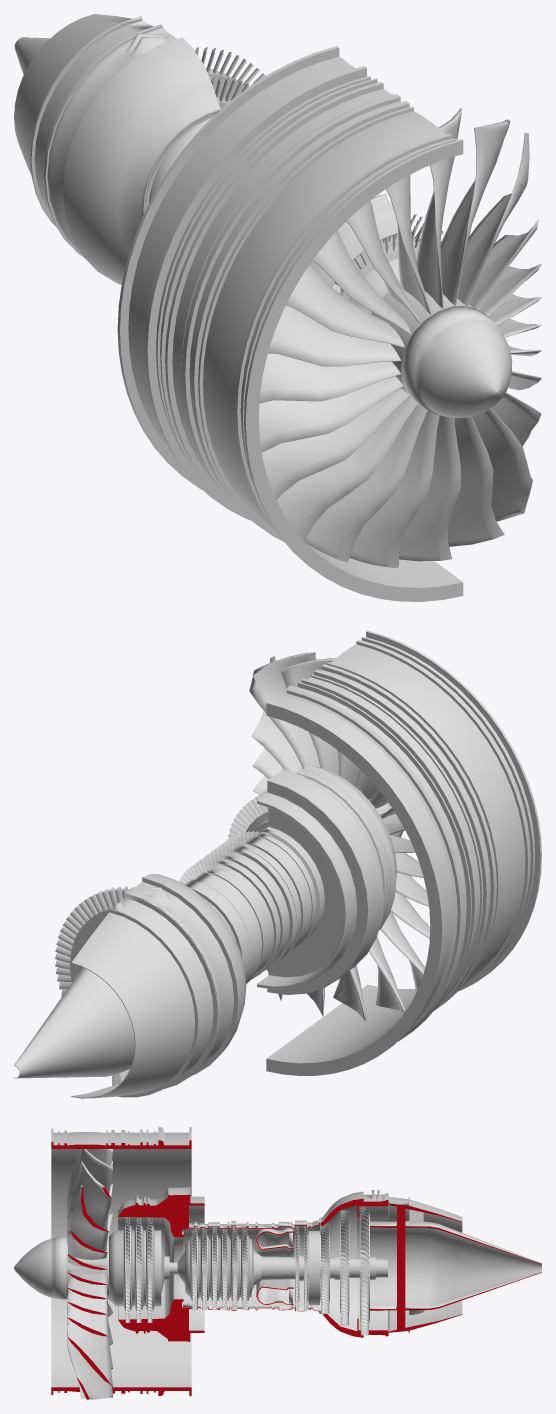
File: Bypass_All_Cutout.fbx
The picture shows the model from 3 angles, top to bottom: view 1: azimuth 30°, elevation 25°; view 2: azimuth 150°, elevation 25°; view 3: azimuth 270°, elevation 25°; orthographic projection. The views are drawn at different scales.
Parts seen in each view (by area): view 1: Cylinder3_lp.003; view 2: Cylinder3_lp.003; view 3: Cylinder3_lp.003.
Boxes of the visible parts, x1,y1,x2,y2 form: Cylinder3_lp.003: [14, 14, 541, 601]; Cylinder3_lp.003: [14, 630, 541, 1098]; Cylinder3_lp.003: [14, 1127, 541, 1399].
Bounding box in the file's own units: 456 × 618 × 1157.
